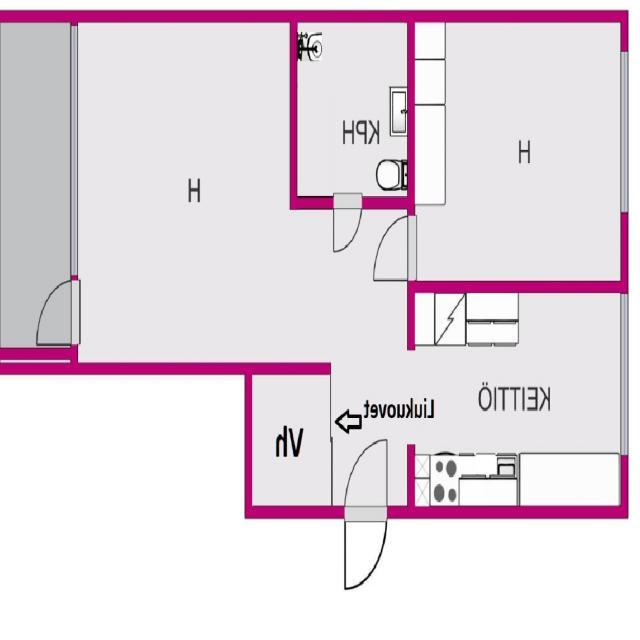door: (345, 432, 387, 518), (345, 506, 387, 590), (34, 280, 78, 344), (371, 215, 415, 279), (334, 197, 362, 257)
